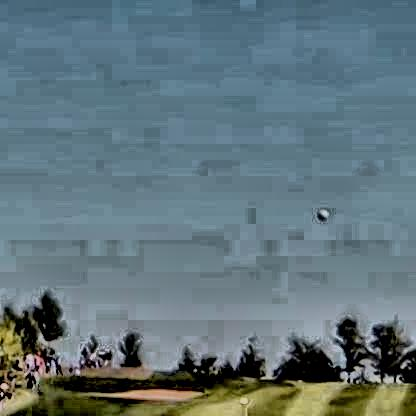golfball: (315, 207, 326, 218)
